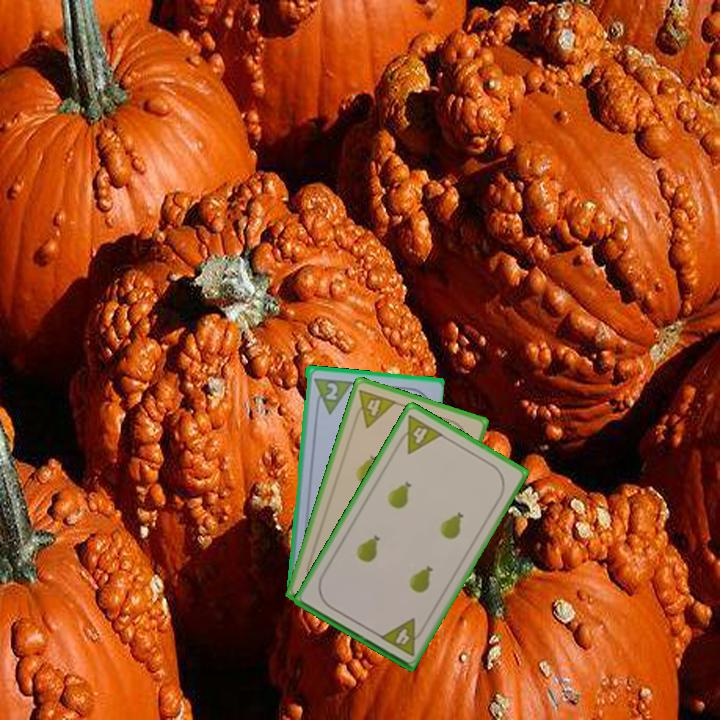2p: (309, 374, 353, 416)
4p: (392, 411, 446, 457), (376, 615, 428, 659), (349, 385, 399, 430)
